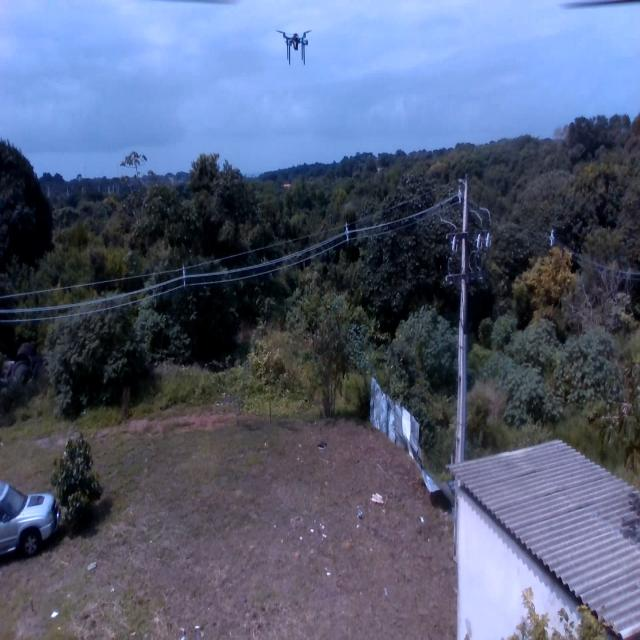-uav-: (274, 22, 317, 68)
